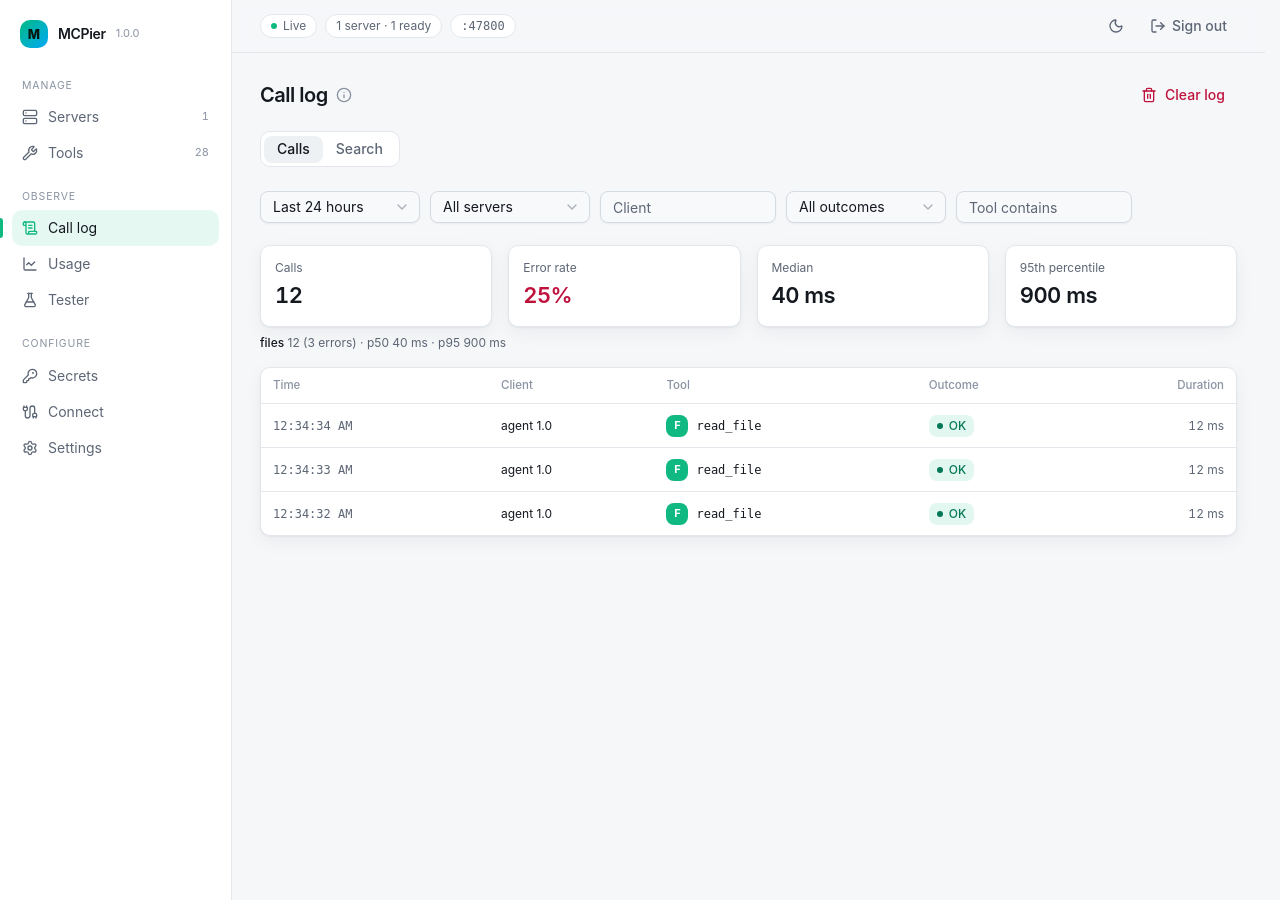
Call log: filters › puts changed filters in the URL, so a view can be bookmarked
The image size is (1280, 900).
Expected: the table named "Calls" is shown, top-left (261, 368), bottom-right (1236, 535)
Step 1. Select "Failed" in the 3rd dropdown named "Outcome" → (866, 207), box top-left (786, 191), bottom-right (946, 223)
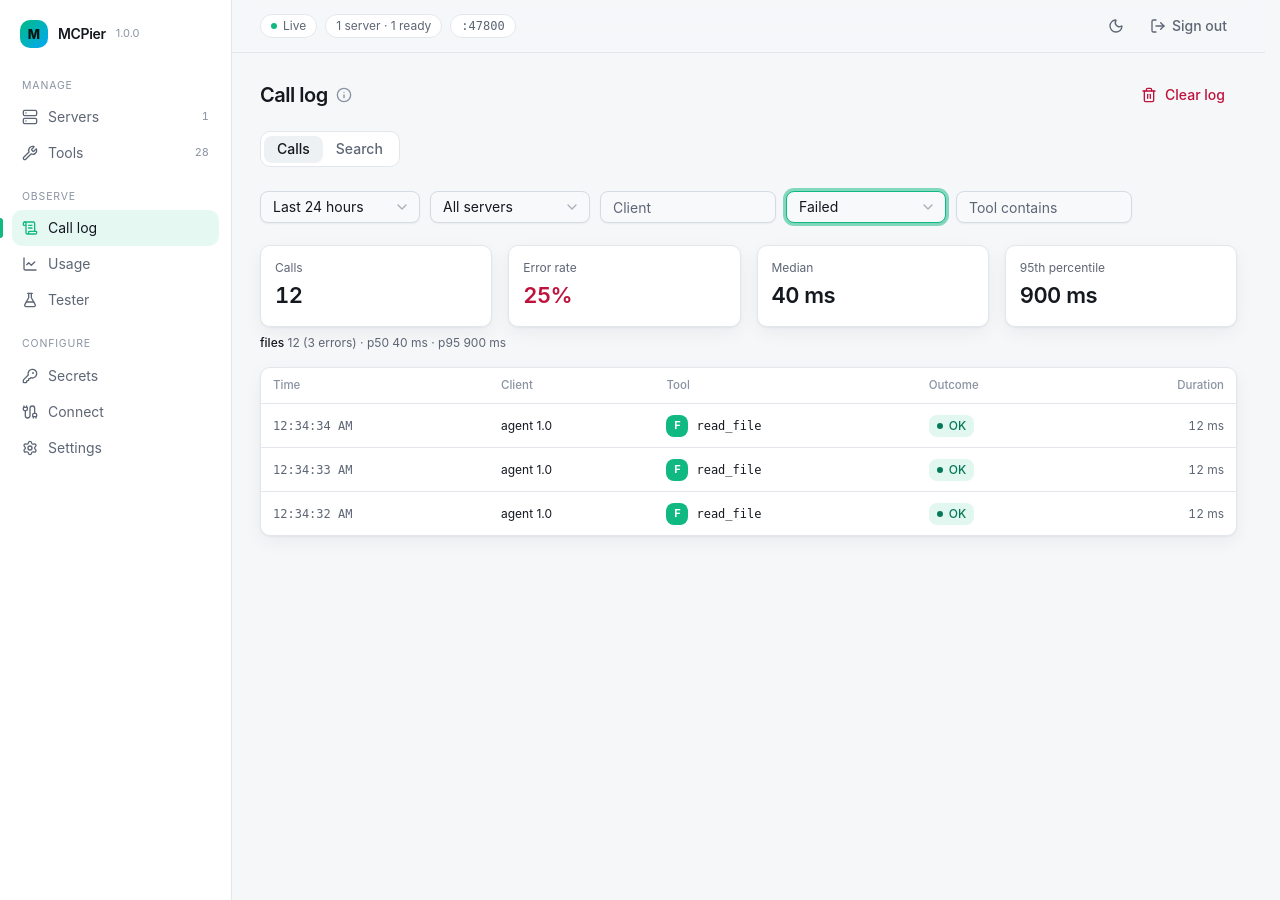
Step 2. Select "github" in the 2nd dropdown named "Server" → (510, 207), box top-left (430, 191), bottom-right (590, 223)
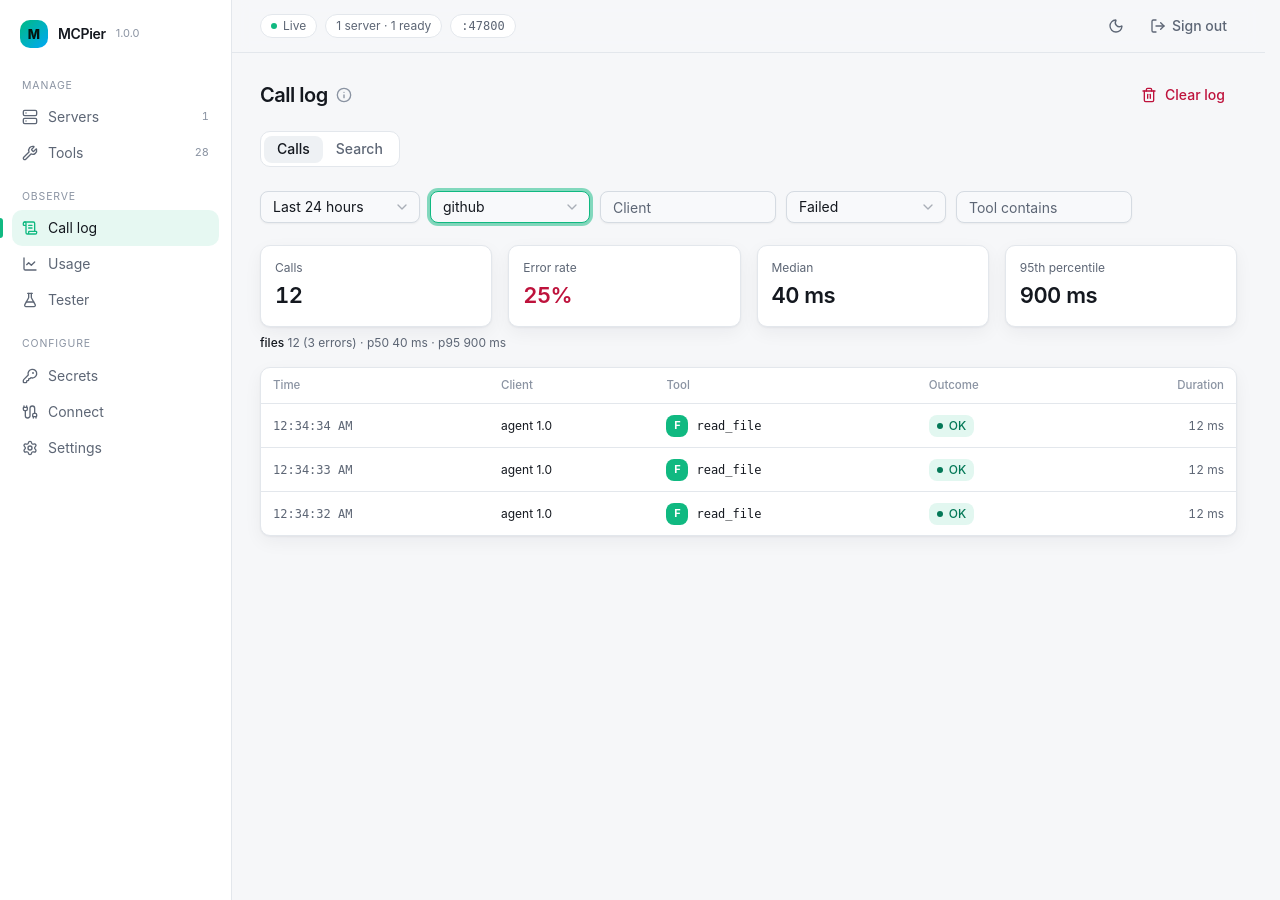
Step 3. Type "issue" into the field named "Tool name contains" → (1044, 207), box top-left (956, 191), bottom-right (1132, 223)
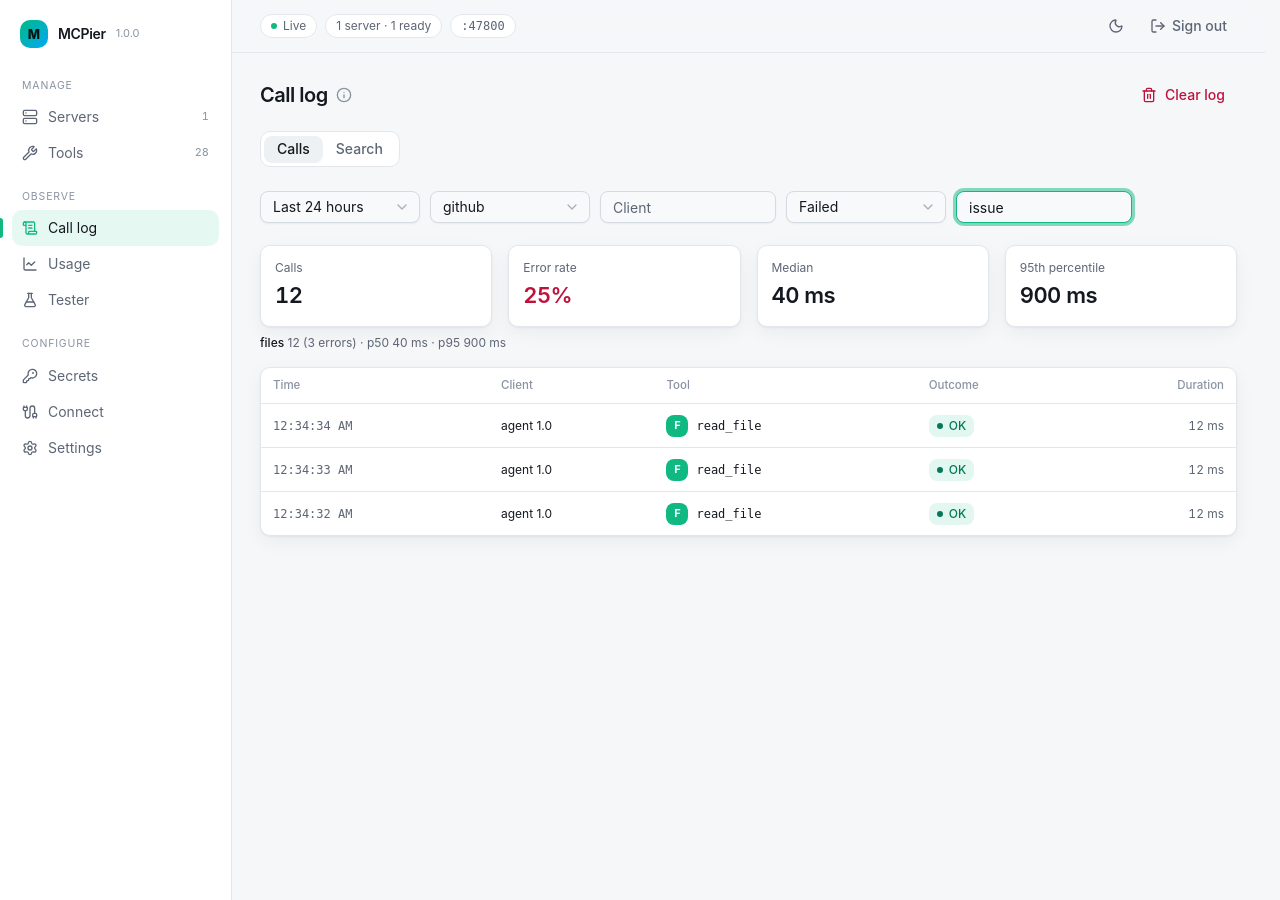
Step 4. Select "Custom" in the 1st dropdown named "Time" → (340, 207), box top-left (260, 191), bottom-right (420, 223)
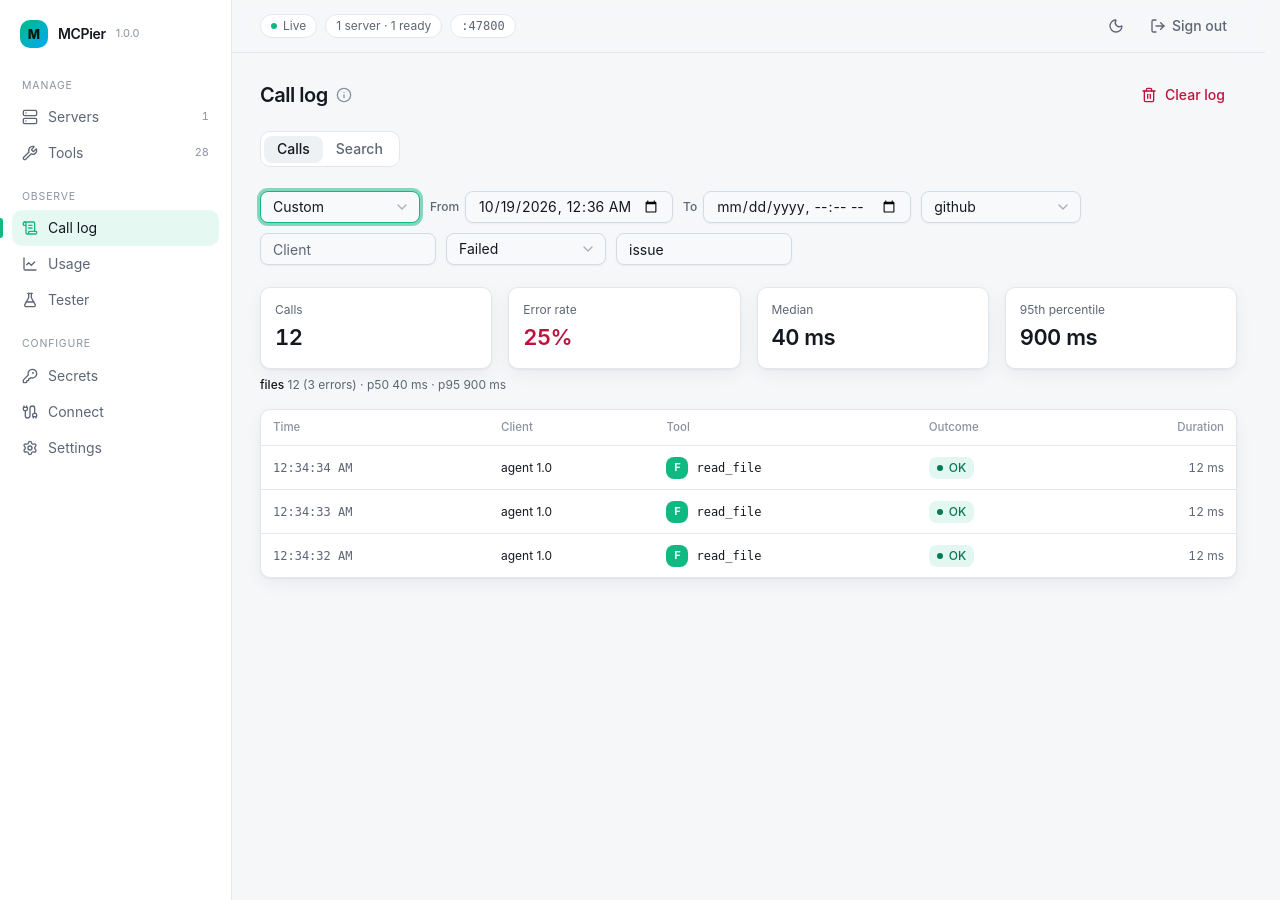
Expected: the field labelled "From" is shown, top-left (465, 191), bottom-right (673, 223)
